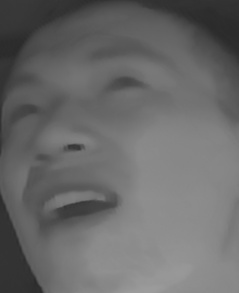eye: (102, 71, 150, 100), (7, 97, 51, 122)
mouth: (26, 185, 122, 232)
